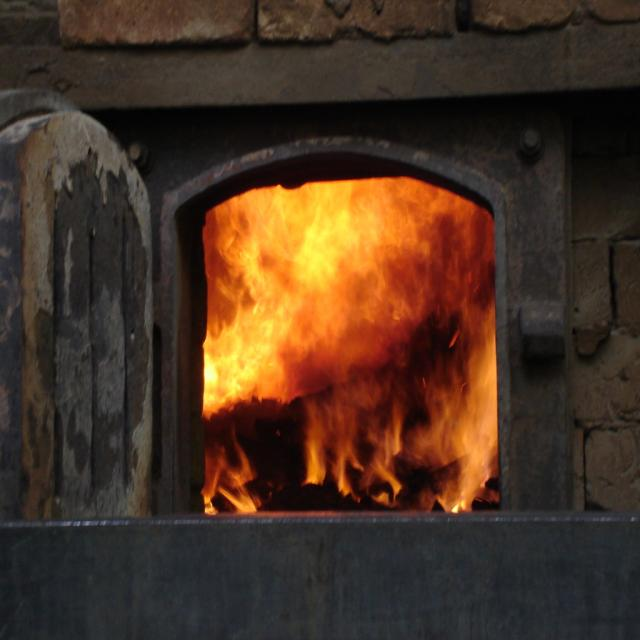fire: (208, 200, 498, 508)
